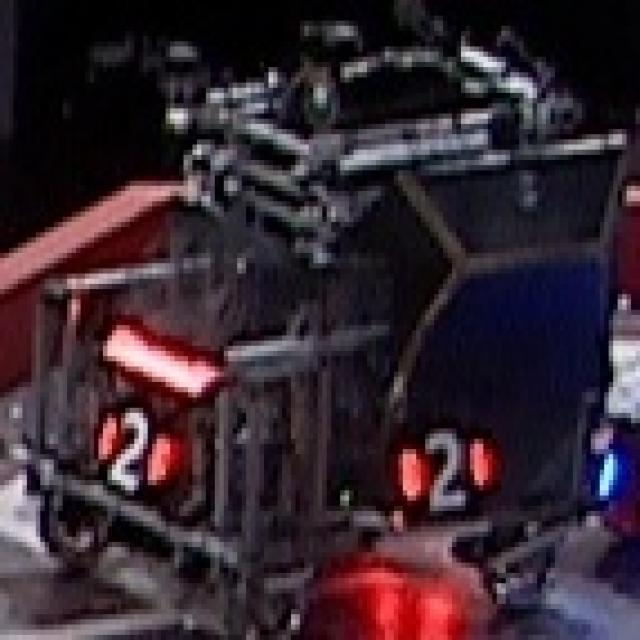R2: (394, 423, 492, 516), (94, 398, 175, 490)
